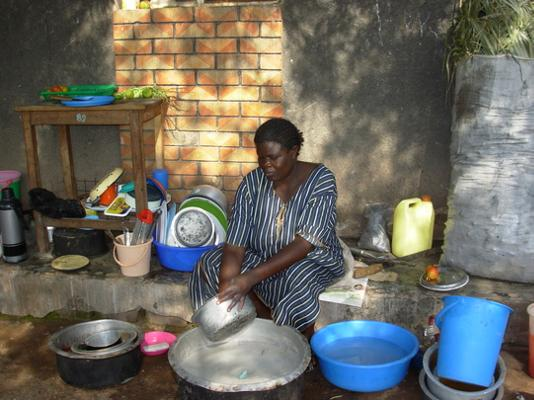person: (221, 119, 349, 342)
